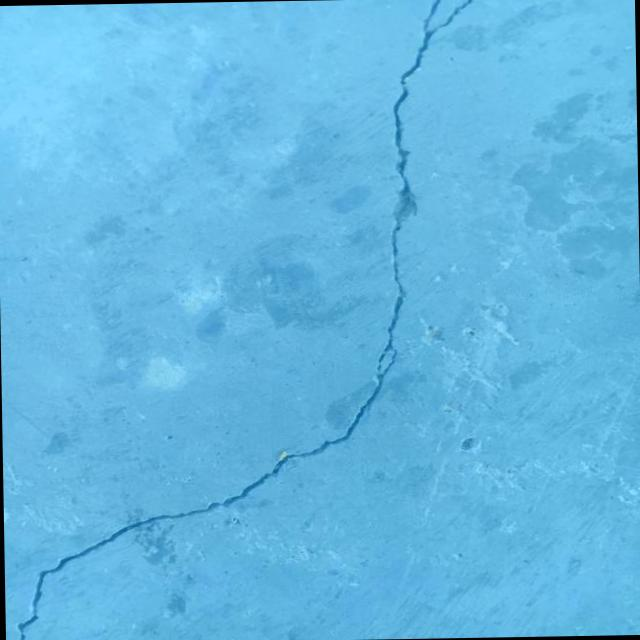crack: (6, 0, 484, 640)
